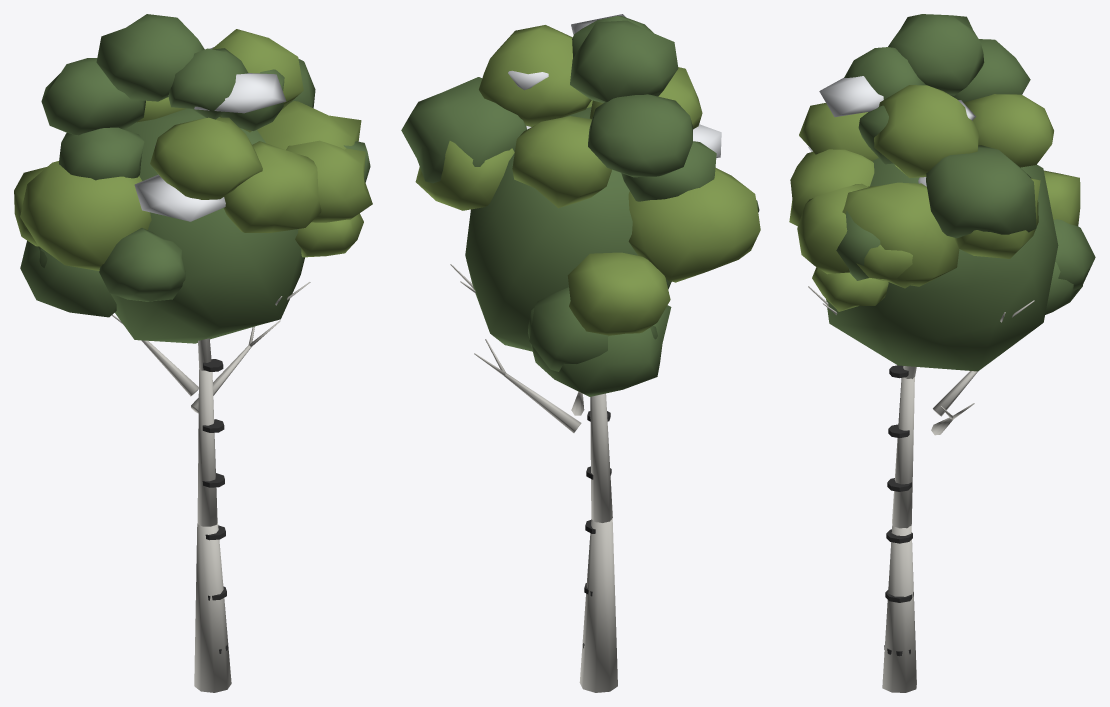
Rendered from node_tree_birch_snow_0.glb.
The picture shows the model from 3 angles, left to right: view 1: azimuth 30°, elevation 25°; view 2: azimuth 150°, elevation 25°; view 3: azimuth 270°, elevation 25°; orthographic projection. The views are drawn at different scales.
Visible parts, largest first — view 1: blob.021, blob.006, blob.010, blob.015, blob.018, blob.003, cyl, blob.001, blob.011, blob.002, blob.009, blob.005 (+10 smaller); view 2: blob.021, blob.006, blob.019, blob.003, blob.004, blob.014, blob.015, blob.016, cyl, blob.011, blob.007, blob.020 (+6 smaller); view 3: blob.021, blob.019, blob.008, blob.004, blob.015, blob.016, cyl, blob.002, blob.018, blob.010, blob.003, cyl.001 (+11 smaller).
Part boxes in pixels (x1,y1,x2,y2): blob.021: (110, 108, 304, 343); blob.006: (20, 161, 151, 270); blob.010: (150, 117, 262, 199); blob.015: (96, 14, 204, 101); blob.018: (223, 141, 321, 232); blob.003: (41, 58, 145, 135); cyl: (194, 522, 231, 692); blob.001: (99, 228, 185, 301); blob.011: (20, 240, 116, 317); blob.002: (286, 140, 372, 222); blob.009: (59, 127, 144, 180); blob.005: (168, 48, 248, 119); blob.021: (465, 107, 671, 351); blob.006: (628, 168, 760, 282); blob.019: (401, 77, 526, 183); blob.003: (588, 94, 692, 177); blob.004: (479, 25, 591, 126); blob.014: (567, 252, 670, 335); blob.015: (570, 20, 678, 102); blob.016: (512, 116, 611, 208); cyl: (579, 519, 617, 692); blob.011: (528, 305, 671, 396); blob.007: (529, 287, 657, 371); blob.020: (415, 141, 514, 210); blob.021: (826, 158, 1058, 371); blob.019: (926, 145, 1036, 238); blob.008: (842, 182, 959, 286); blob.004: (874, 85, 978, 177); blob.015: (888, 14, 984, 95); blob.016: (963, 94, 1053, 167); cyl: (882, 525, 916, 692); blob.002: (797, 183, 868, 274); blob.018: (789, 149, 874, 226); blob.010: (799, 103, 878, 161); blob.003: (950, 39, 1030, 102); cyl.001: (892, 377, 914, 528).
Size of the model in its own units: 4.41 by 8.92 by 3.81.
